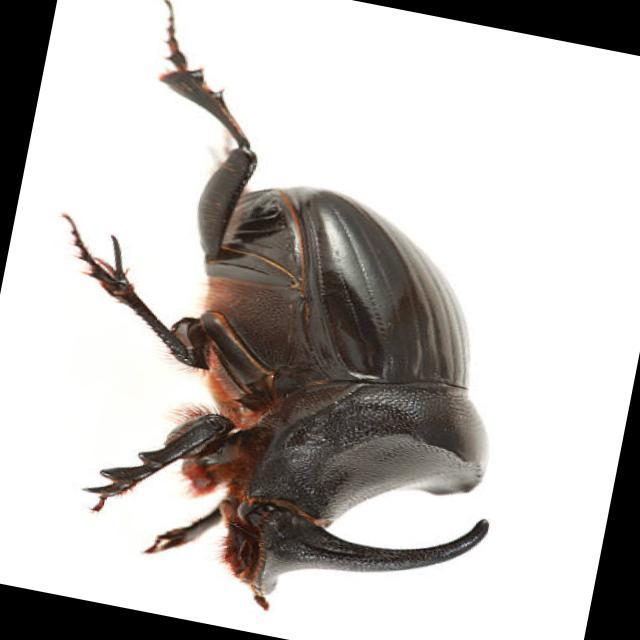Rhino-beetle: (48, 126, 506, 600)
